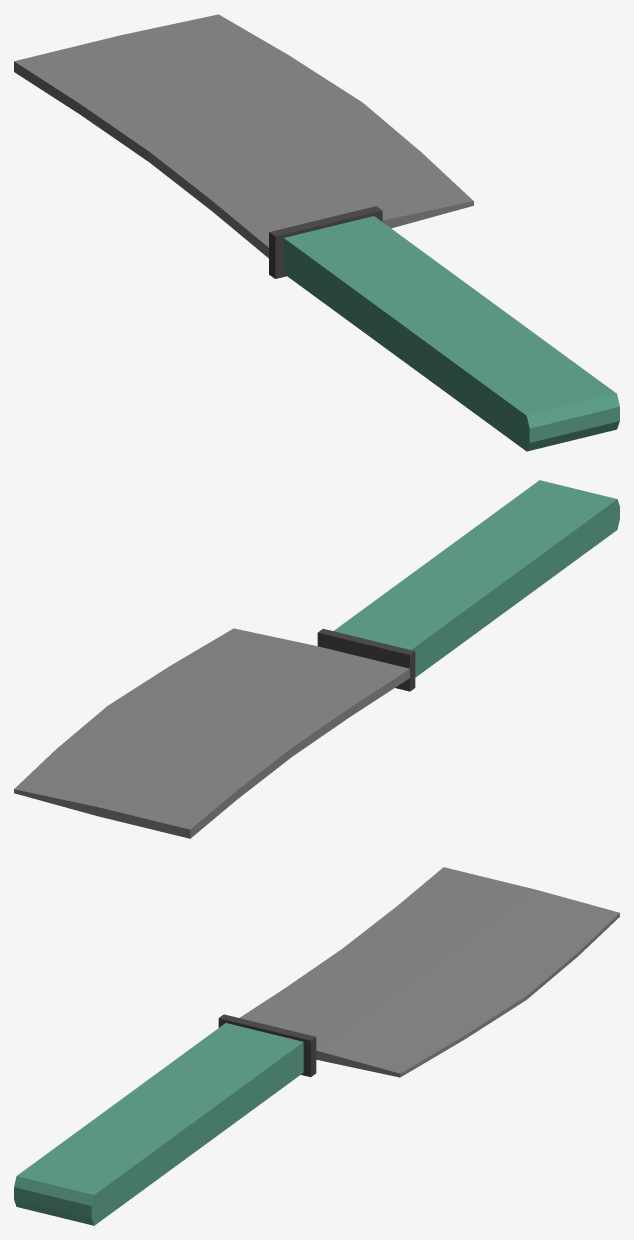
The model's file is cutlery_cleaver.glb.
The picture shows the model from 3 angles, top to bottom: view 1: azimuth 30°, elevation 25°; view 2: azimuth 150°, elevation 25°; view 3: azimuth 330°, elevation 25°; orthographic projection. The views are drawn at different scales.
Visible parts, largest first — view 1: Cutlery_Cleaver_Green; view 2: Cutlery_Cleaver_Green; view 3: Cutlery_Cleaver_Green.
Boxes of the visible parts, left/top/right/bottom form: Cutlery_Cleaver_Green: left=14, top=14, right=619, bottom=451; Cutlery_Cleaver_Green: left=14, top=480, right=619, bottom=838; Cutlery_Cleaver_Green: left=14, top=867, right=619, bottom=1225.
Size of the model in its own units: 0.1297 by 0.0237 by 0.5125.
